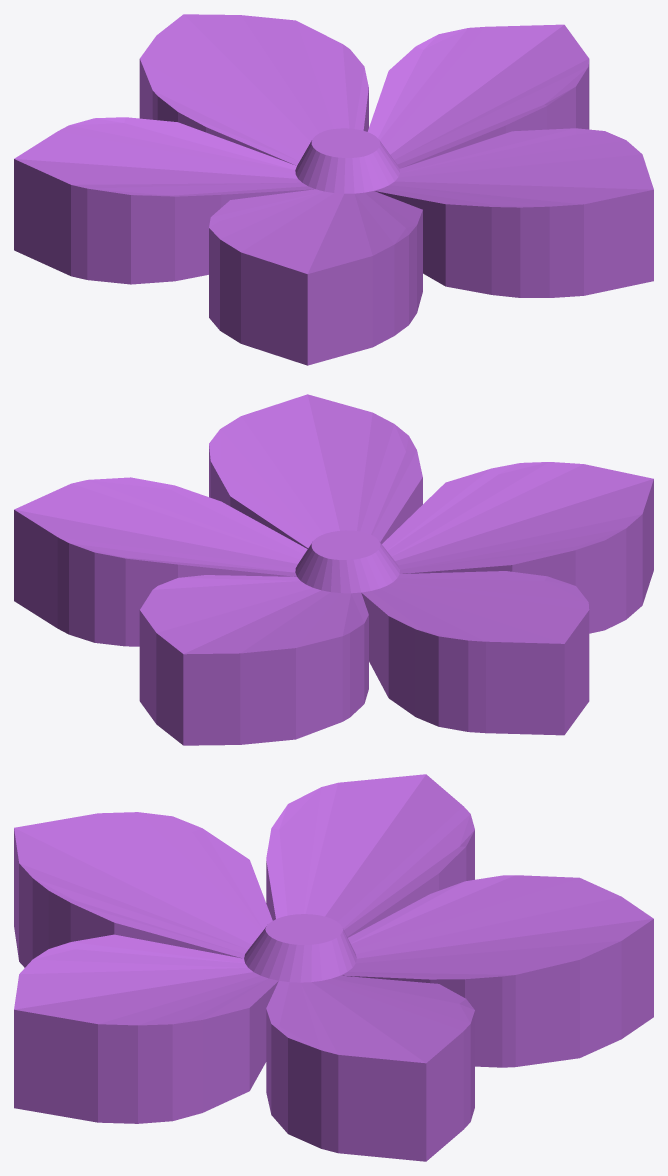
Rendered from FlorBosque.fbx.
3 renders of one model, top to bottom at view 1: azimuth 30°, elevation 25°; view 2: azimuth 150°, elevation 25°; view 3: azimuth 270°, elevation 25°, orthographic. The views are drawn at different scales.
Parts seen in each view (by area): view 1: Circle; view 2: Circle; view 3: Circle.
Part boxes in pixels (x1,y1,x2,y2): Circle: (14,14,653,365); Circle: (14,394,653,745); Circle: (14,774,653,1161).
Size of the model in its own units: 3.39 by 0.5391 by 3.18.
